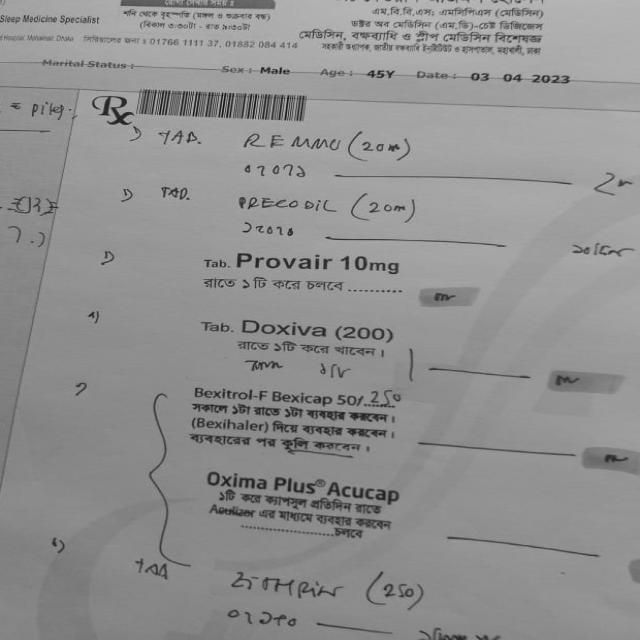medicine: (218, 190, 340, 222), (237, 130, 346, 158)
